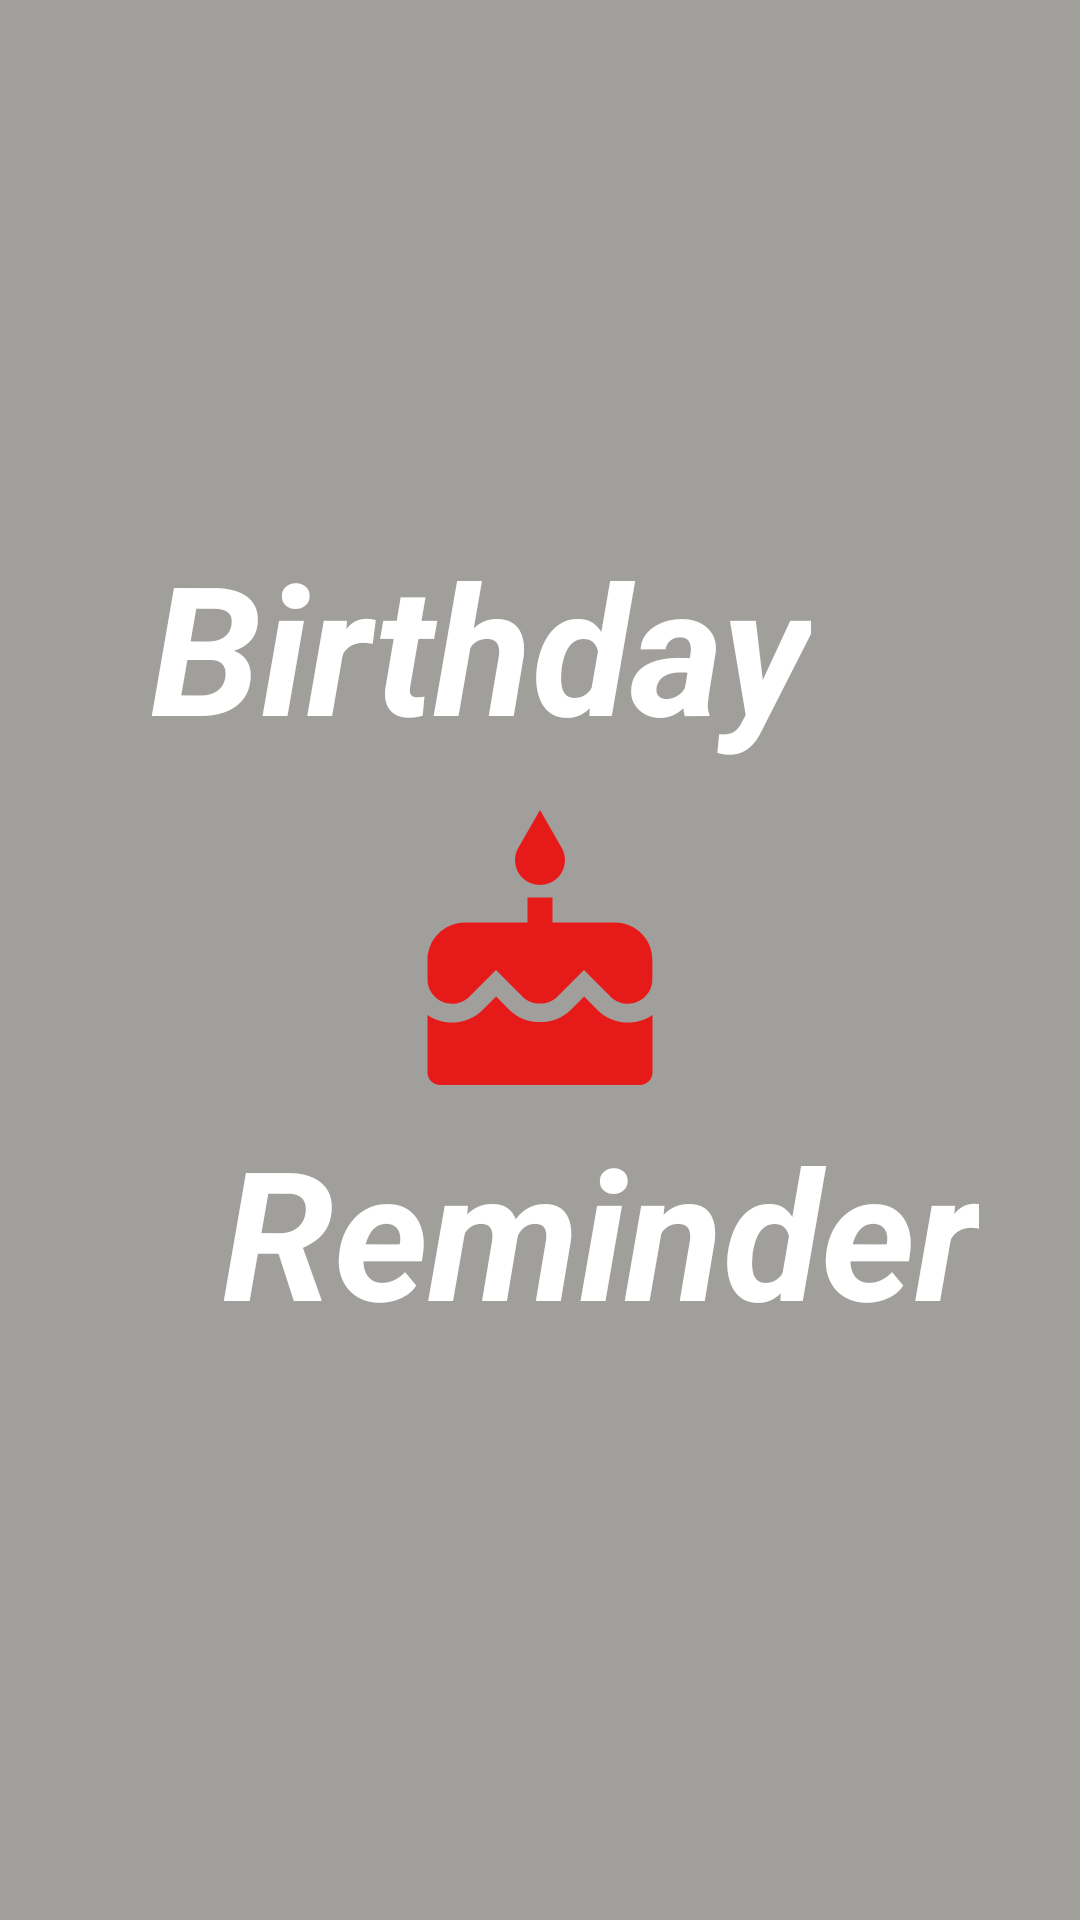

Named icons in this screenshot (1080px×1920px) and their centers, (x=x, y=y):
cake: (x=540, y=947)
